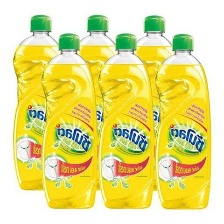book: (153, 32, 215, 212), (40, 30, 99, 211), (97, 32, 156, 211), (66, 13, 125, 191), (9, 12, 66, 191), (125, 13, 179, 192)
